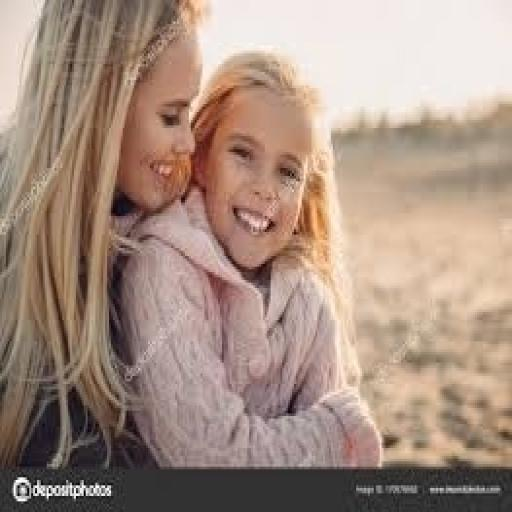hugging: (0, 0, 385, 469)
